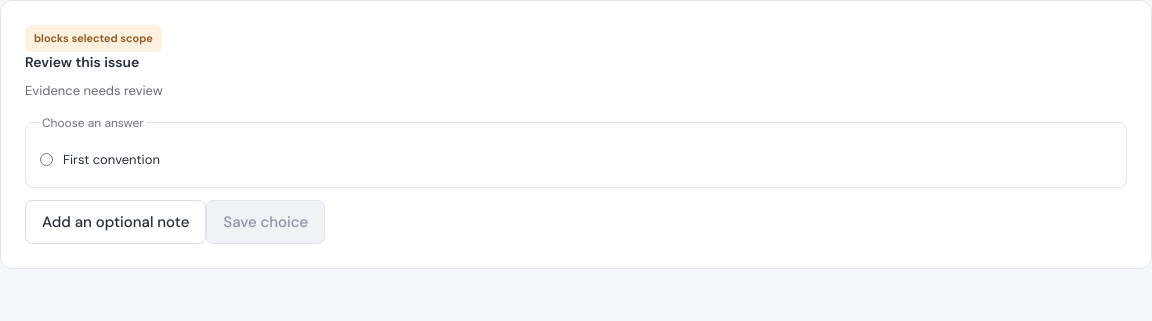
Scenario: retains a choice when saving fails
Click the radio button labelled "First convention" at coordinates (46, 159), box [40, 153, 53, 166]
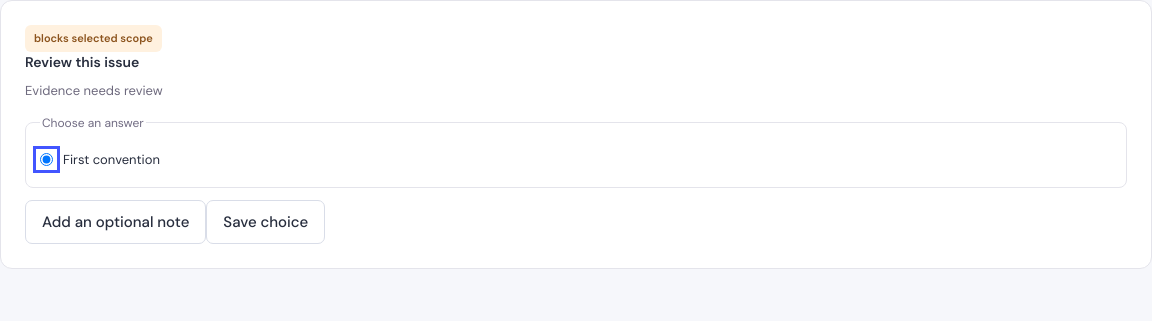
Click the button "Save choice" at coordinates (266, 222), box [206, 200, 325, 244]
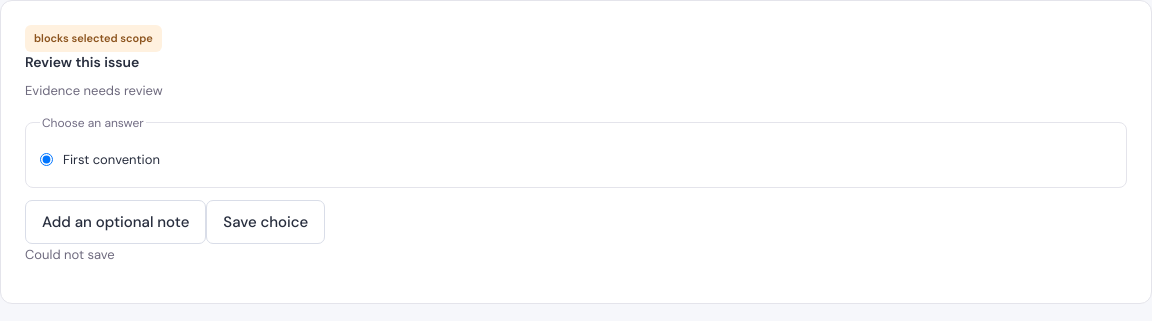
Check: the radio button is checked, box [40, 153, 53, 166]
Check: the message reads "Could not save", box [25, 246, 115, 263]
